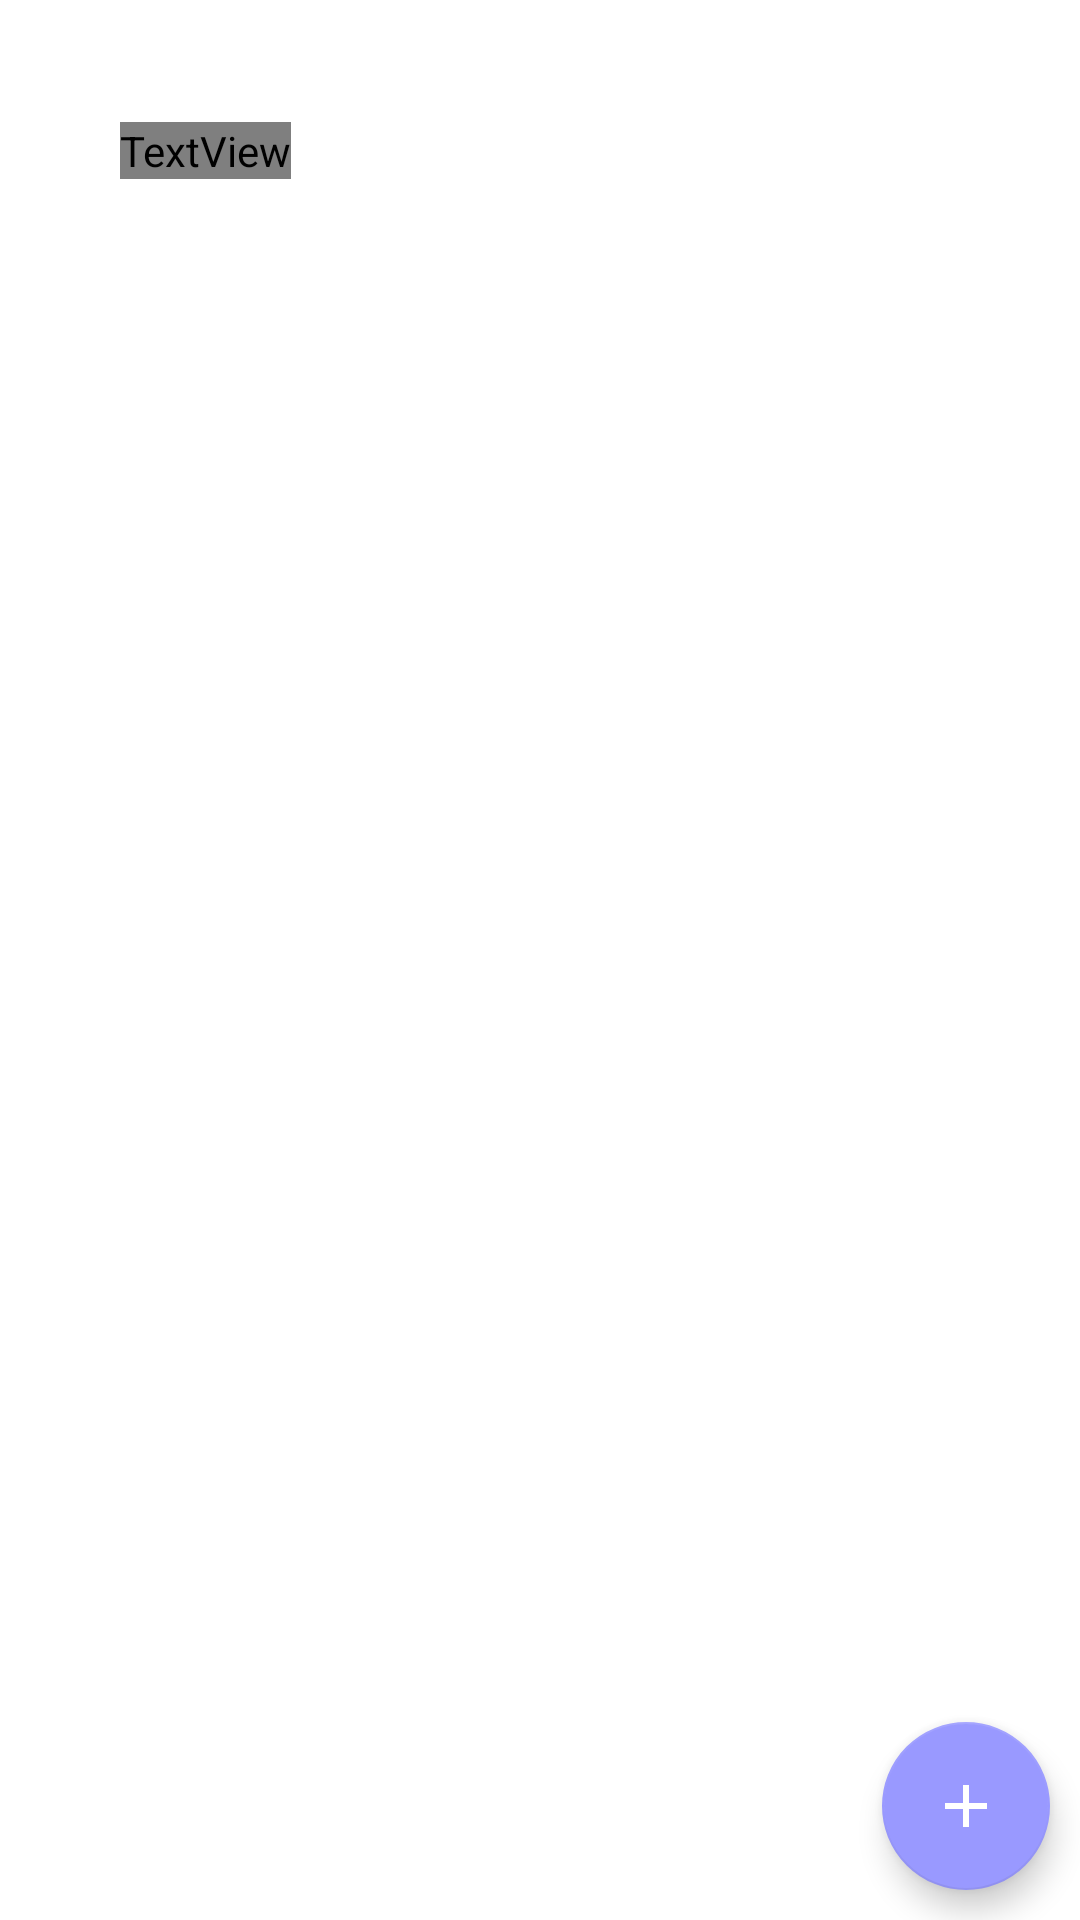

Named icons in this screenshot (1080w x 1920h) and their centers, [x,y]:
Floating Button: [966,1806]
